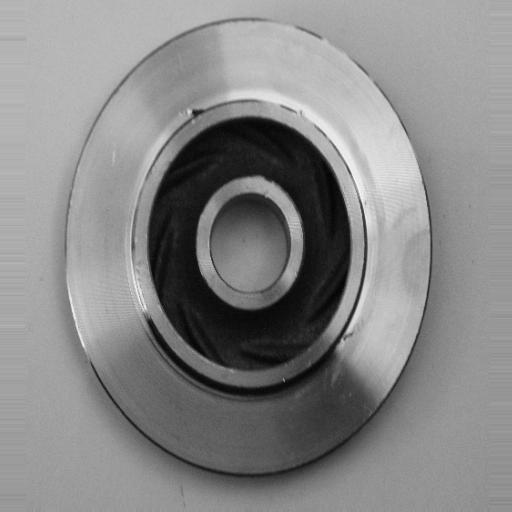crack: (177, 96, 212, 130)
scratch: (120, 224, 160, 328), (327, 321, 359, 367)
unpolished_casting: (62, 15, 437, 482)
